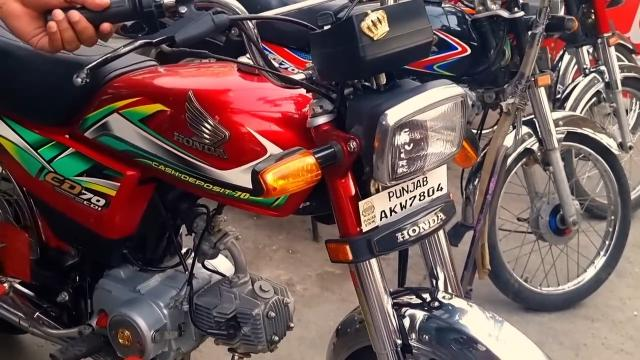plate: (358, 163, 449, 235)
